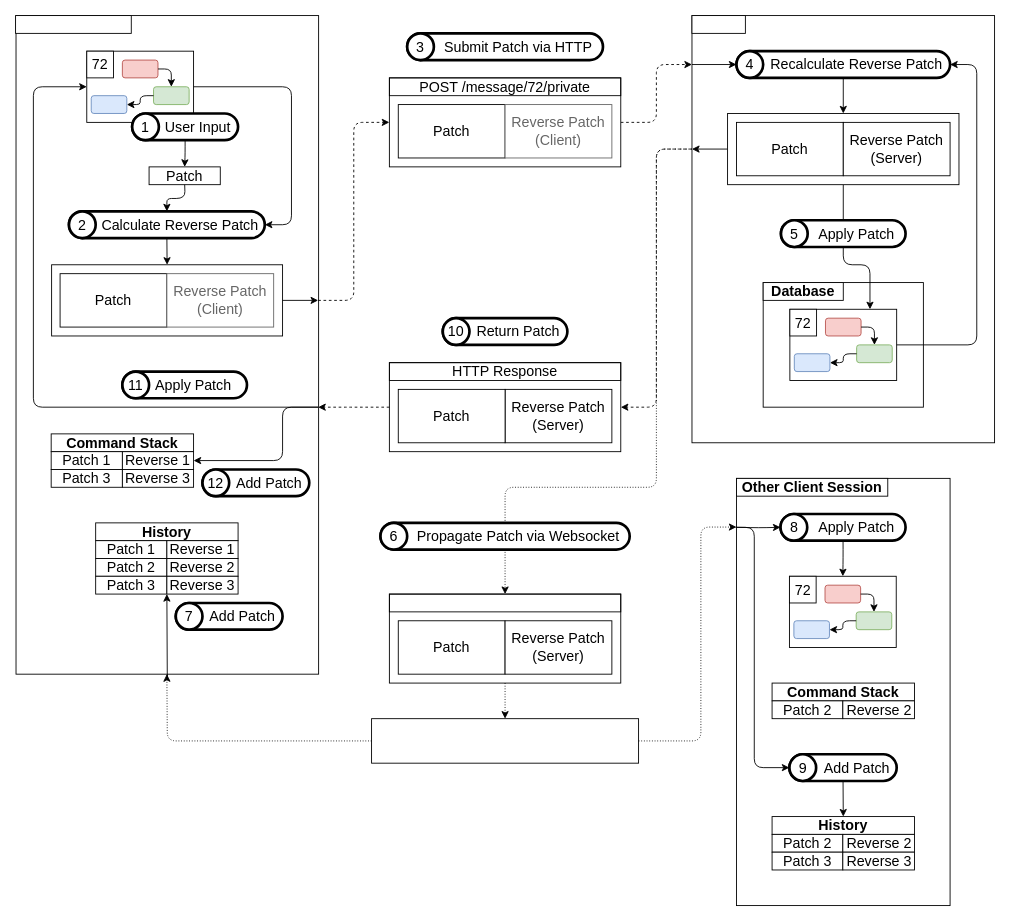
The diagram is 1010 pixels wide and 921 high, and some of its shapes have lost their labels. Here are the shapes that lost their labels. From the top down, the centre of each, then its label:
the point at 73,24: Client Session
the point at 718,24: Server
the point at 504,602: Websocket Message
the point at 505,740: /api/ws/project/72 /<client-uuid>/private
